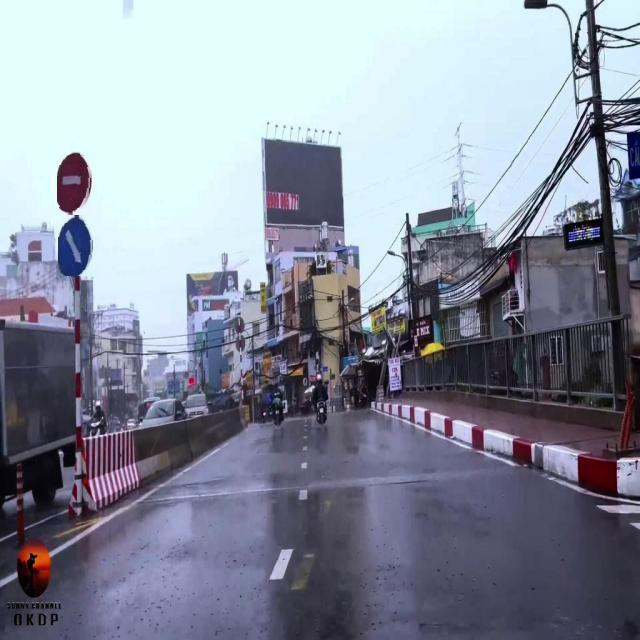102-cam-di-nguoc-chieu: (58, 152, 90, 212)
302a-huong-phai-di-vong-chuong-ngai-vat-1: (58, 218, 92, 276)
